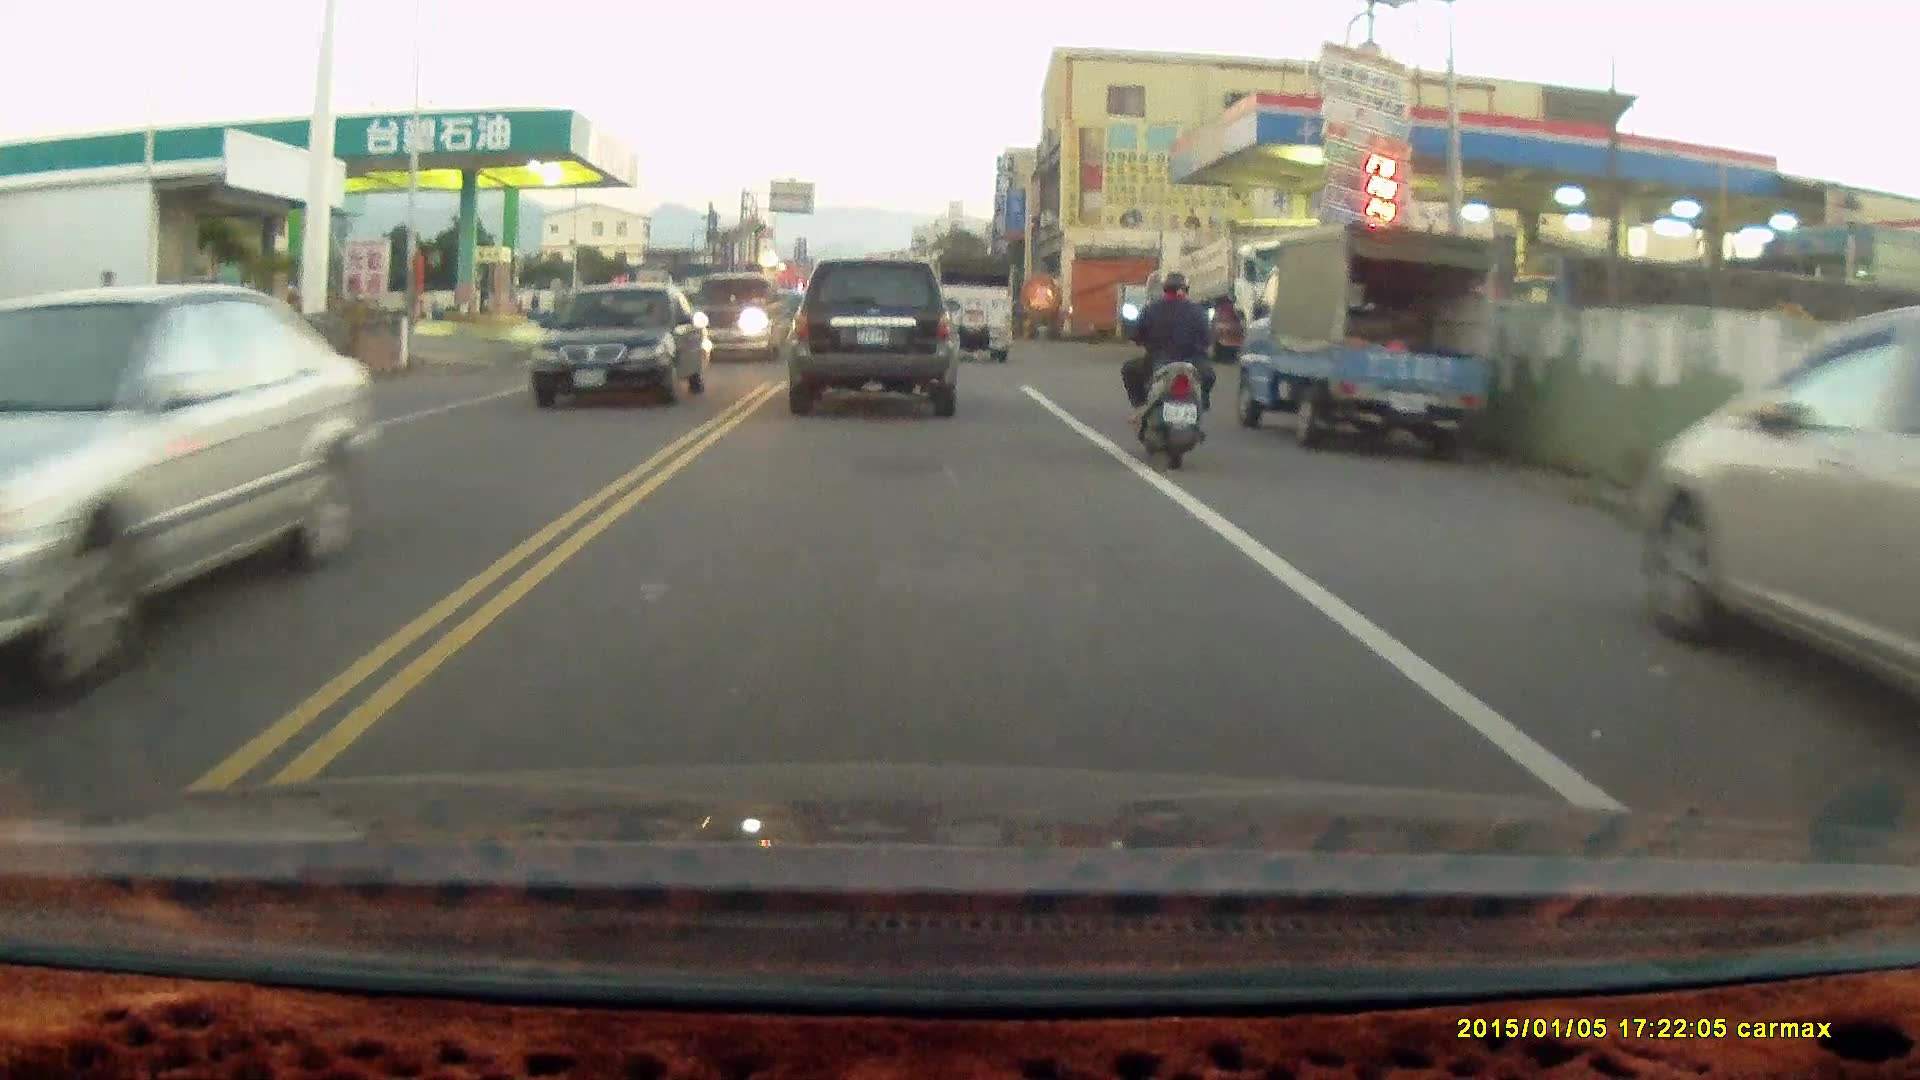rider: (1120, 273, 1220, 471)
vehicle: (1, 277, 375, 687), (1631, 300, 1920, 734), (1237, 222, 1504, 451), (787, 256, 959, 412), (534, 285, 716, 409), (921, 250, 1018, 362), (684, 273, 789, 371)
